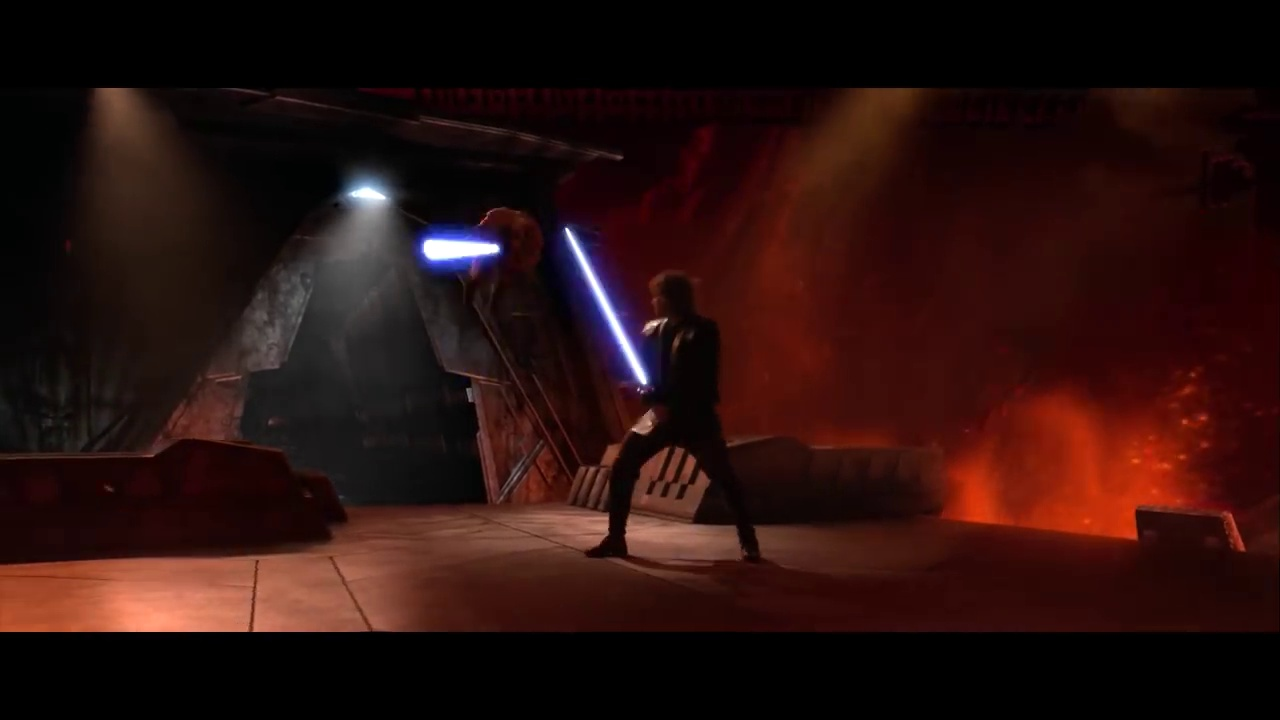lightsaber: (553, 225, 667, 398), (413, 232, 503, 267)
